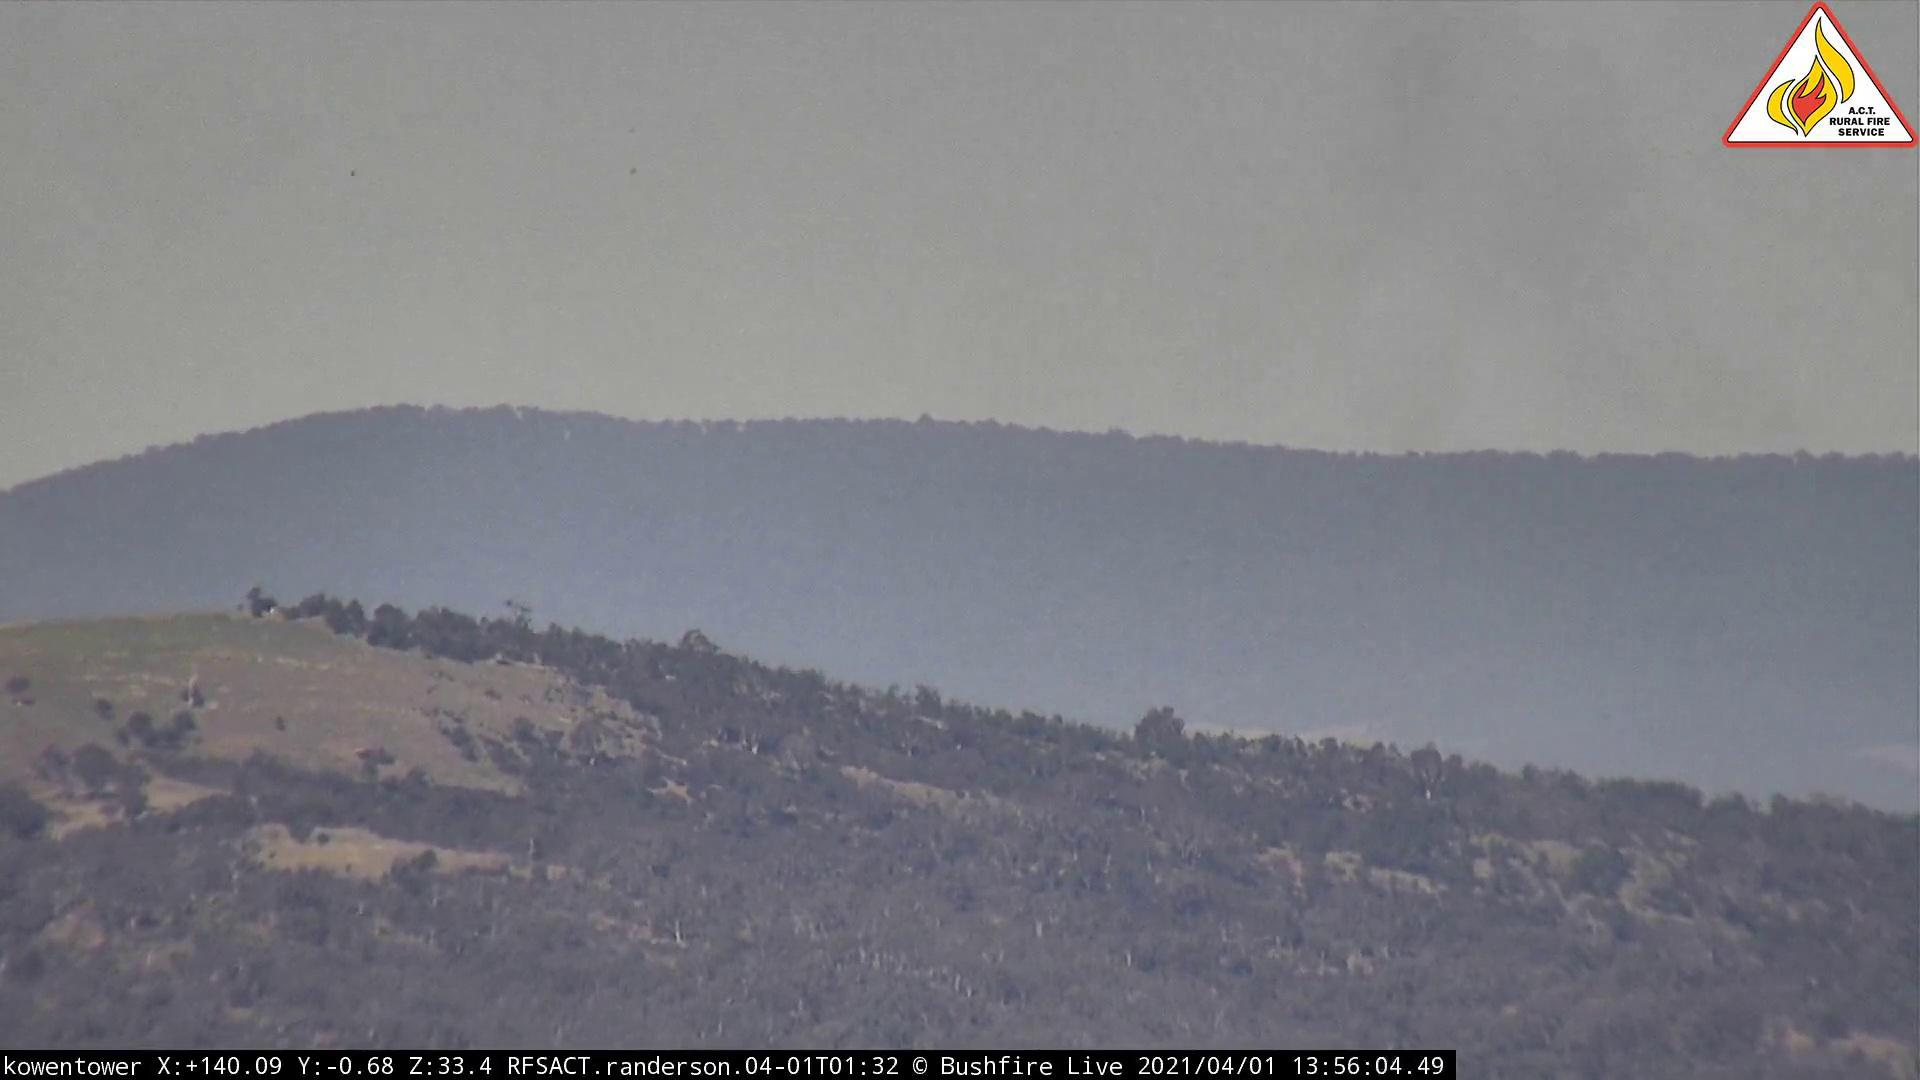Smoke: (1234, 164, 1826, 480)
